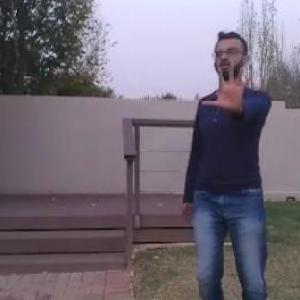follow_hand: (200, 60, 253, 109)
